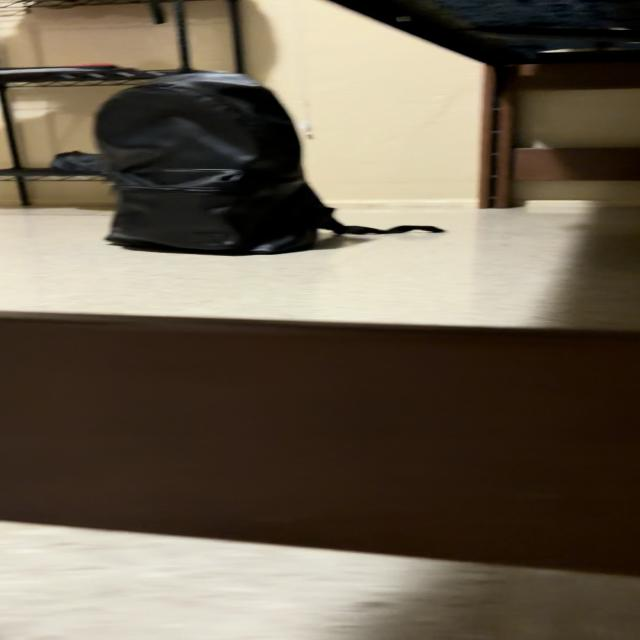backpack: (96, 72, 440, 253)
